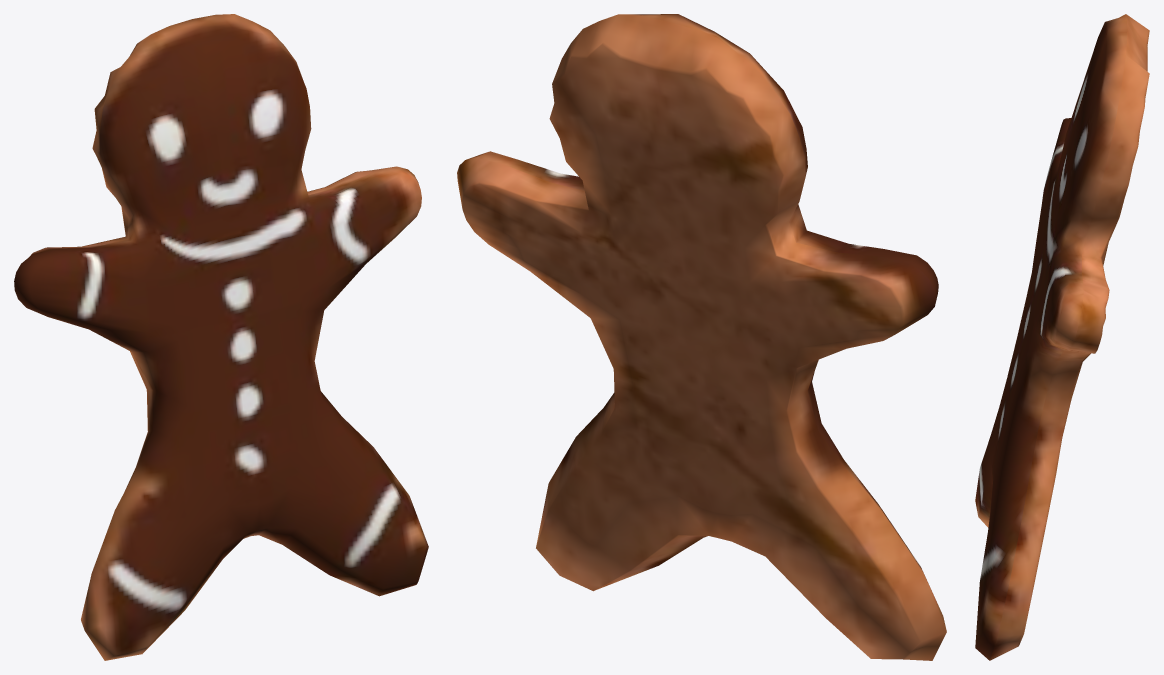
3 renders of one model, left to right at view 1: azimuth 30°, elevation 25°; view 2: azimuth 150°, elevation 25°; view 3: azimuth 270°, elevation 25°, orthographic. The views are drawn at different scales.
Visible parts, largest first — view 1: Circle.001_Xma Cookie 23_Material_0; view 2: Circle.001_Xma Cookie 23_Material_0; view 3: Circle.001_Xma Cookie 23_Material_0.
Boxes of the visible parts, x1=… form: Circle.001_Xma Cookie 23_Material_0: x1=14, y1=14, x2=428, y2=660; Circle.001_Xma Cookie 23_Material_0: x1=457, y1=14, x2=946, y2=660; Circle.001_Xma Cookie 23_Material_0: x1=975, y1=14, x2=1149, y2=660.
Size of the model in its own units: 1.19 by 1.56 by 0.4432.
1 material, 1 textured.
